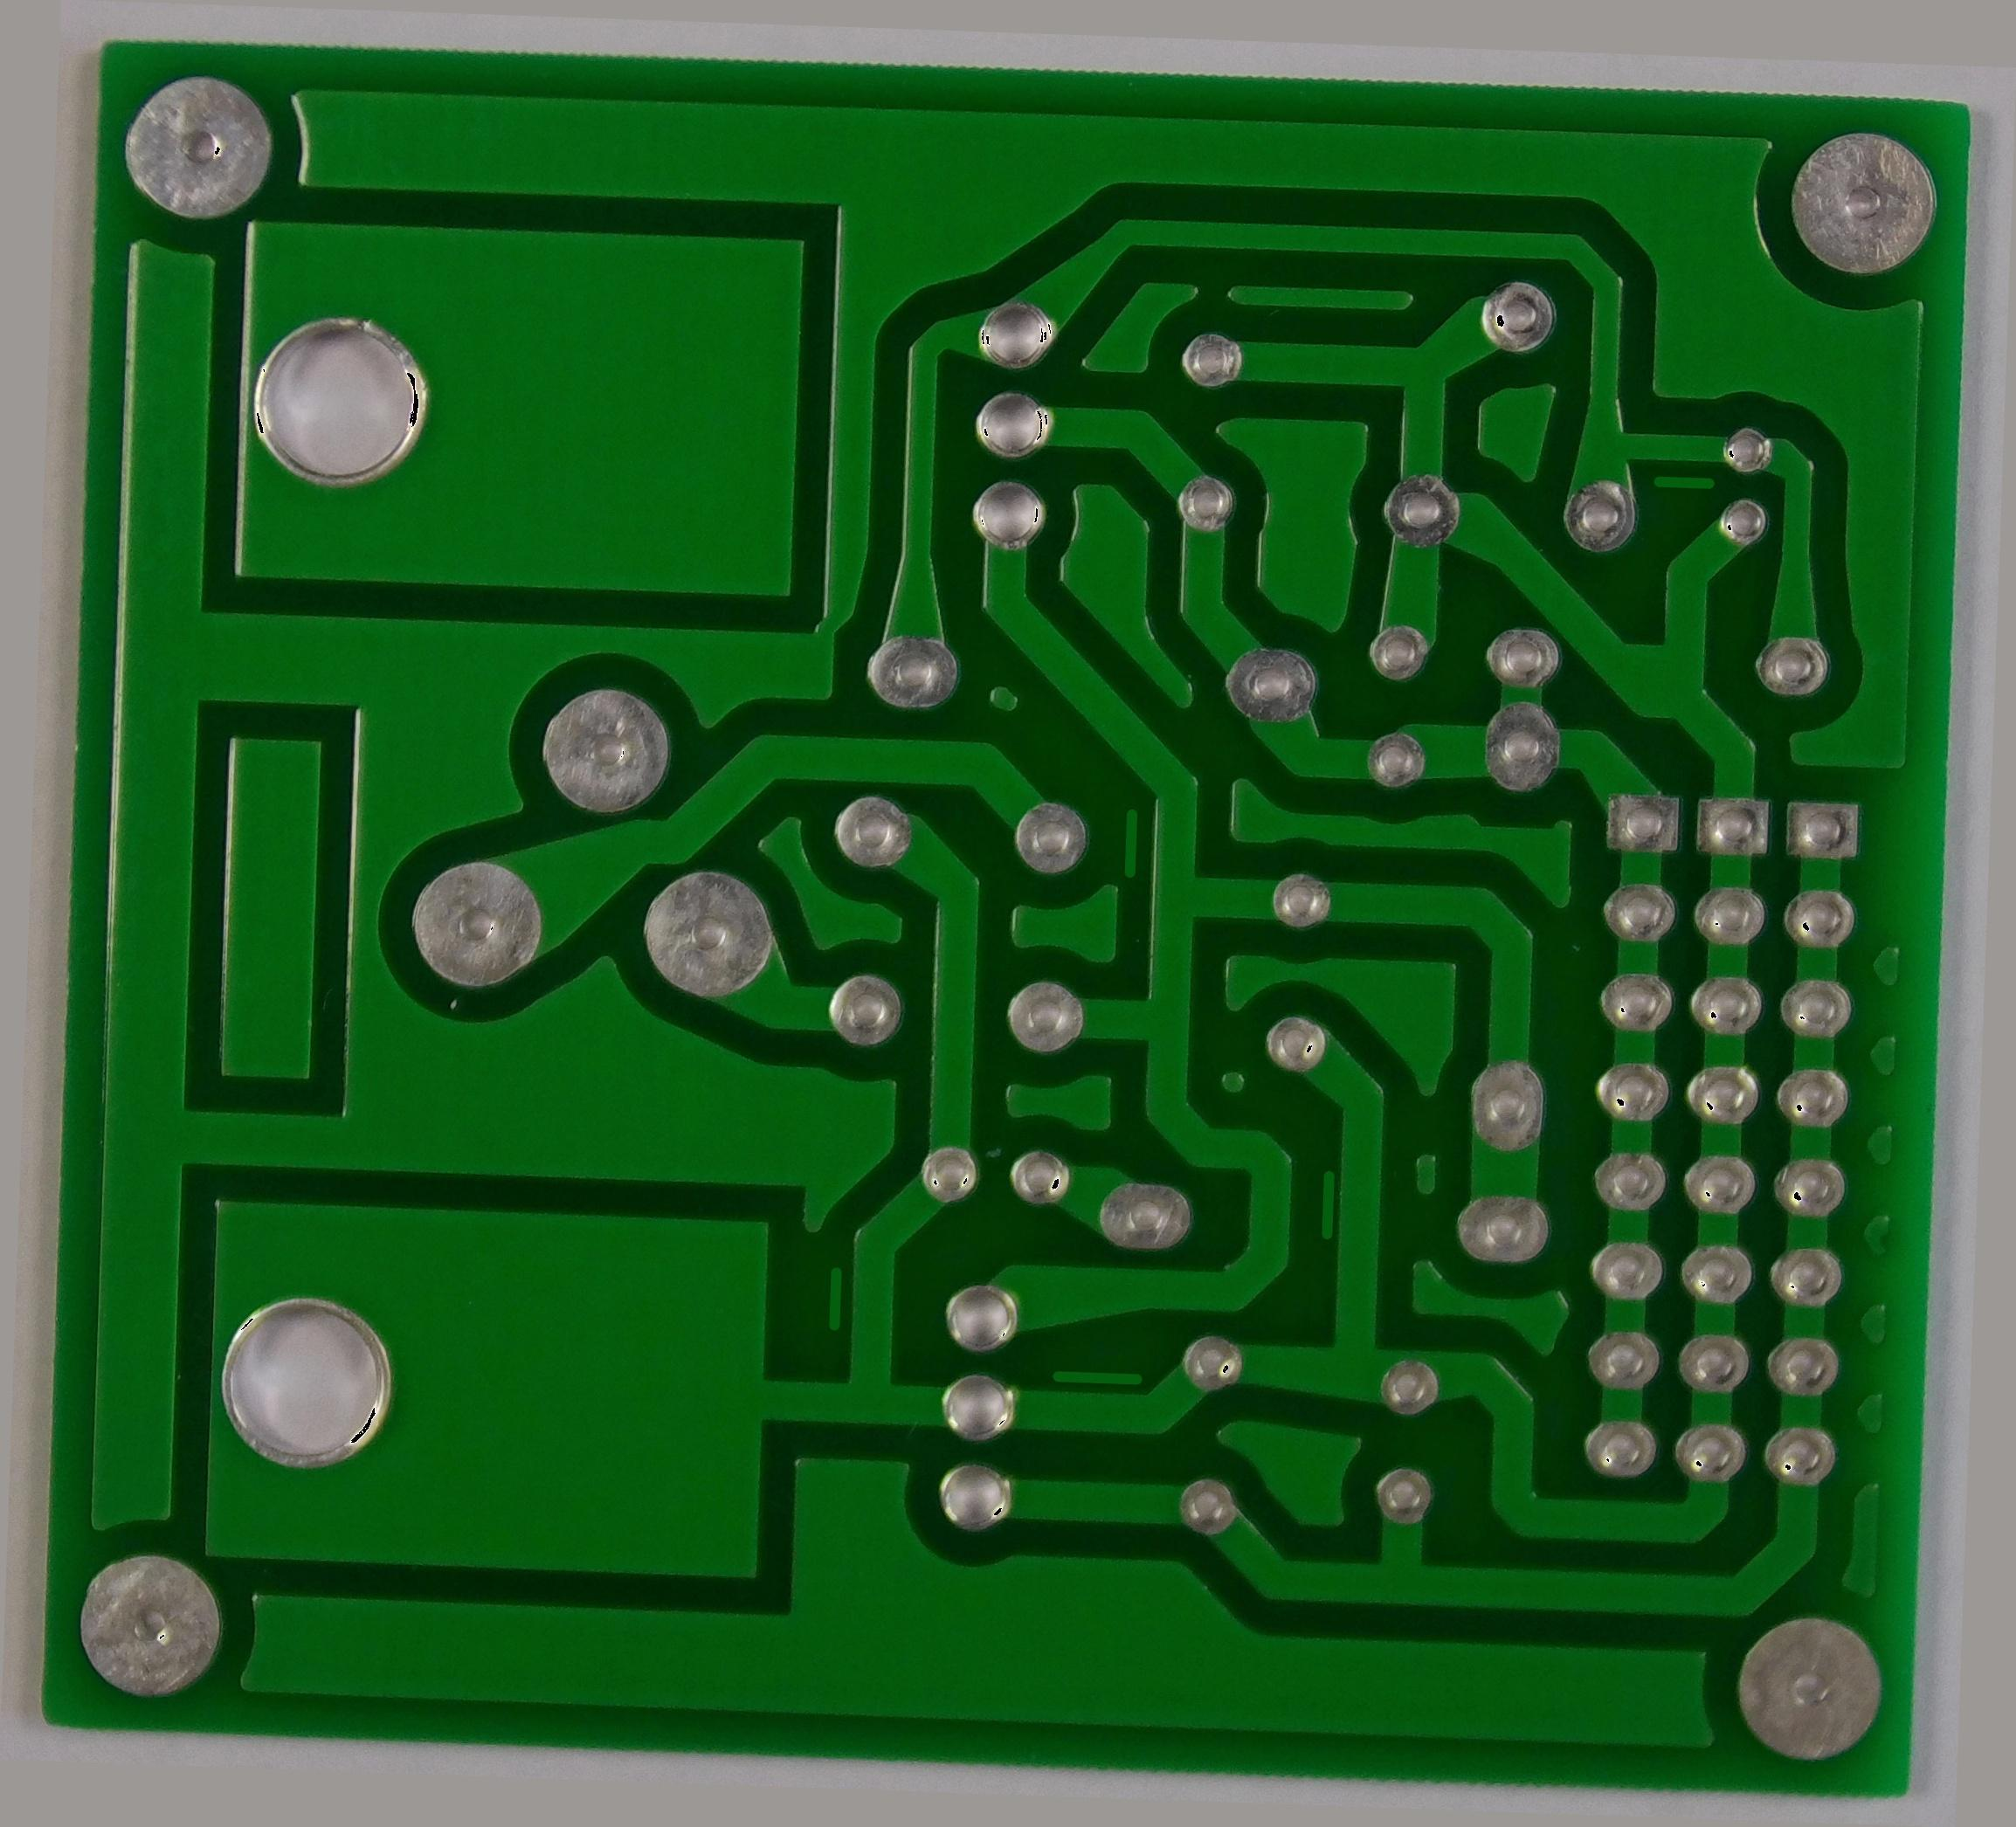spurious_copper: (1103, 788, 1161, 888), (1043, 1355, 1150, 1408), (1301, 1148, 1354, 1255), (1644, 456, 1732, 511), (810, 1251, 857, 1344)
